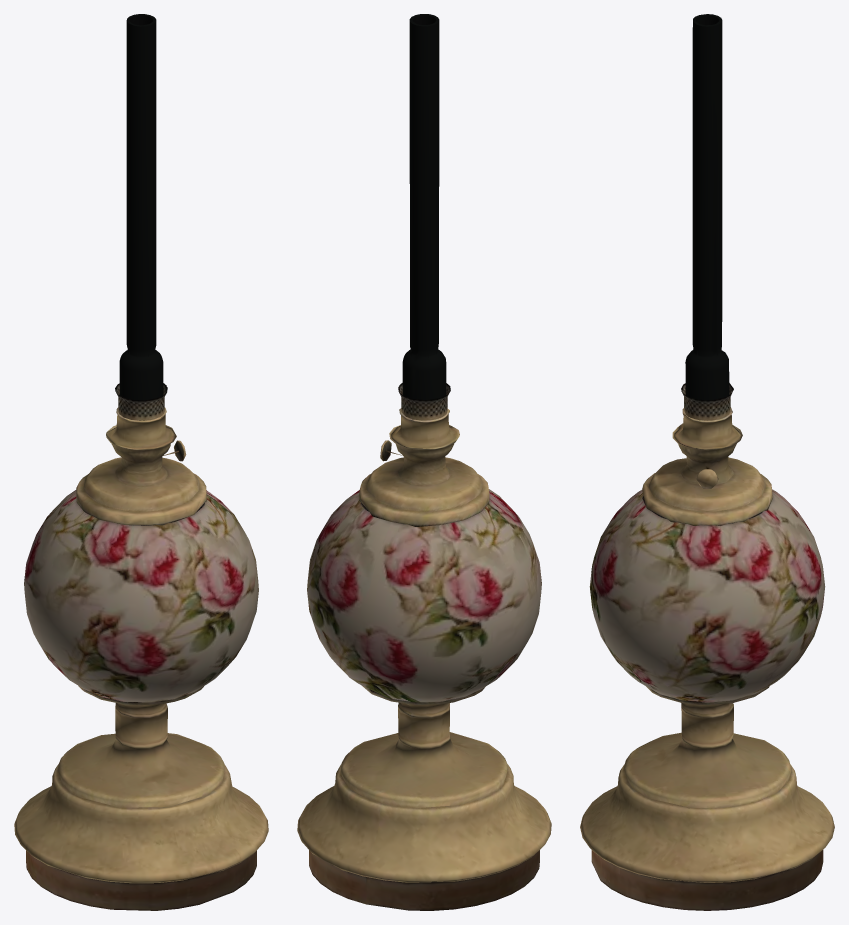
File: vintage_oil_lamp.glb
3 views of the same model, side by side, from view 1: azimuth 30°, elevation 25°; view 2: azimuth 150°, elevation 25°; view 3: azimuth 270°, elevation 25° (orthographic).
Visible parts, largest first — view 1: vintage_oil_lamp, vintage_oil_lamp_glass; view 2: vintage_oil_lamp, vintage_oil_lamp_glass; view 3: vintage_oil_lamp, vintage_oil_lamp_glass.
Boxes of the visible parts, x1,y1,x2,y2 form: vintage_oil_lamp: (14, 407, 268, 910); vintage_oil_lamp_glass: (115, 14, 167, 420); vintage_oil_lamp: (297, 408, 551, 910); vintage_oil_lamp_glass: (398, 14, 450, 420); vintage_oil_lamp: (580, 407, 834, 910); vintage_oil_lamp_glass: (681, 14, 733, 420).
Bounding box in the file's own units: 0.22 × 0.8016 × 0.22.
Materials: 3 (3 with a texture image).
